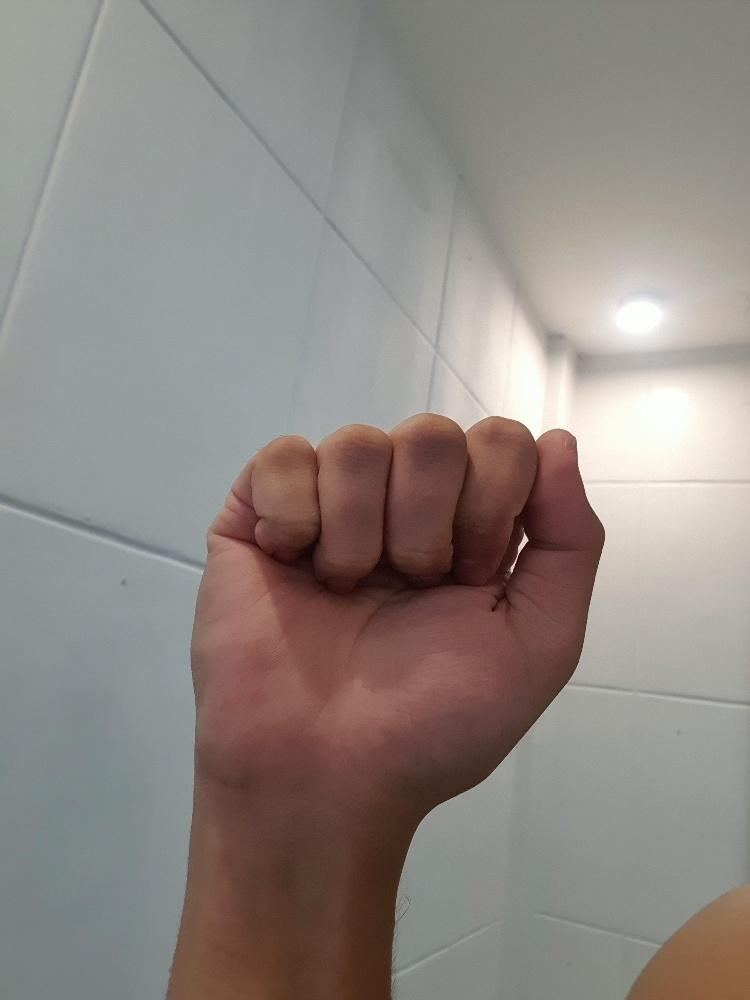a: (184, 407, 607, 817)
